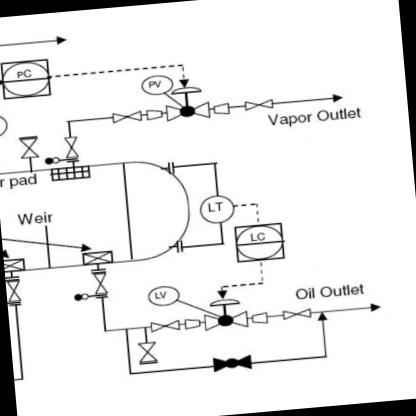LMI: (198, 194, 235, 225)
TAG: (0, 56, 53, 106), (232, 220, 289, 264)
